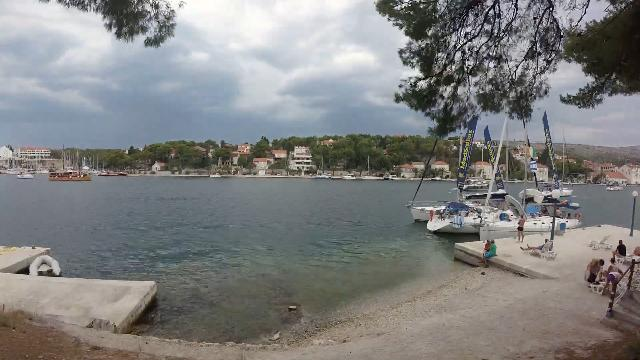Freighter: (46, 160, 98, 186)
Sailboat: (14, 169, 38, 183)
